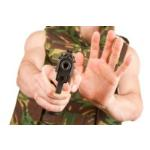Pistol: (49, 46, 77, 98)
